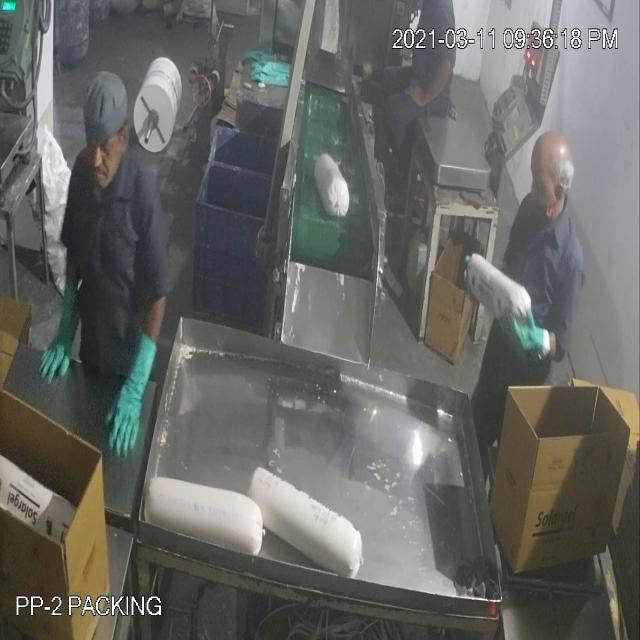gloves: (97, 330, 170, 466), (41, 284, 89, 394)
no-gloves: (398, 51, 456, 127)
